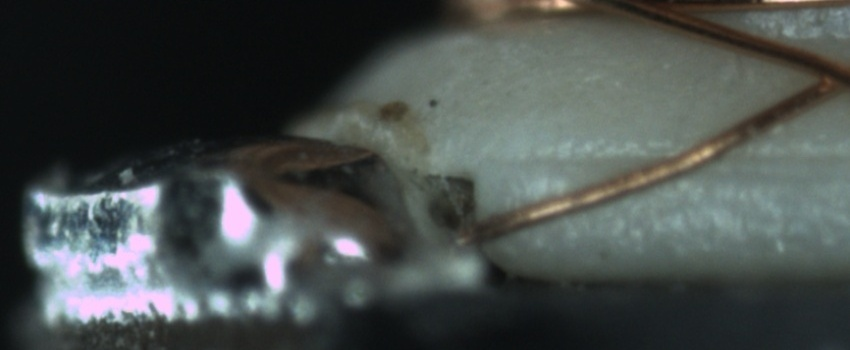CL: (795, 49, 849, 103)
DL: (515, 130, 850, 195)
